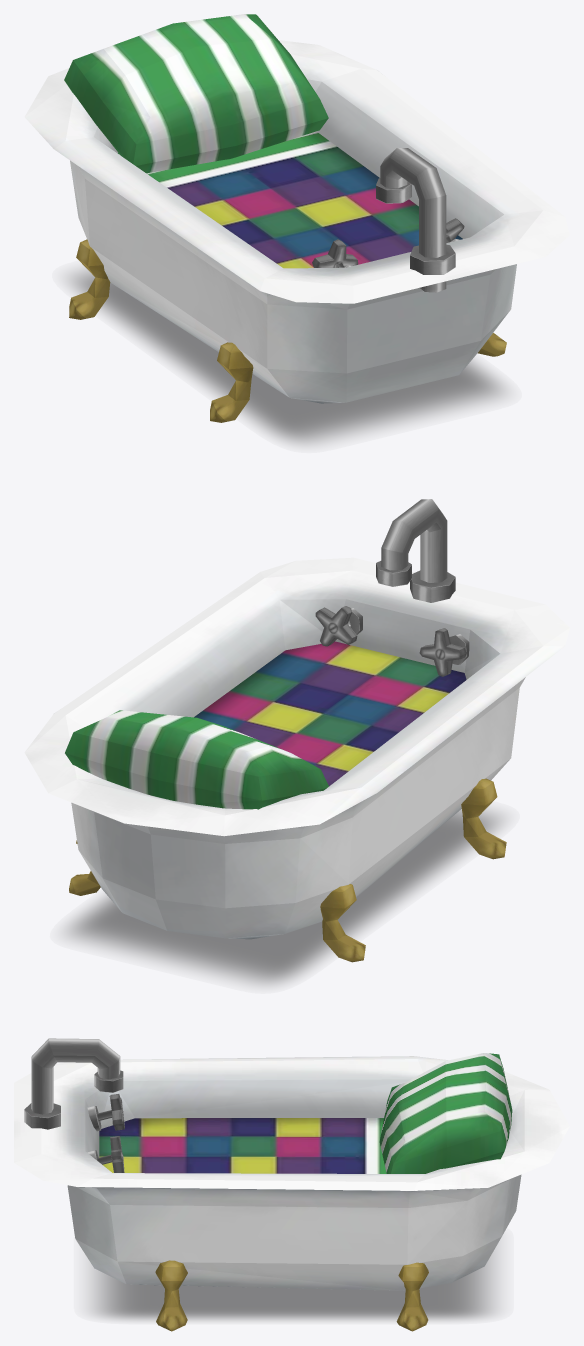
Rendered from bathtub_bed-transformed.glb.
3 renders of one model, top to bottom at view 1: azimuth 30°, elevation 25°; view 2: azimuth 150°, elevation 25°; view 3: azimuth 270°, elevation 25°, orthographic. The views are drawn at different scales.
Parts seen in each view (by area): view 1: polySurface1_surfaceShader6SGShader_0, pillow_surfaceShader5SGShader_0, polySurface2_surfaceShader11SGShader_0, pPlane1_lambert2SGShader_0, leg2_surfaceShader7SGShader_0, faucetCenterMiddle_surfaceShader10SGShader_0, faucetCilynder_surfaceShader8SGShader_0, faucetHandle_surfaceShader9SGShader_0; view 2: polySurface1_surfaceShader6SGShader_0, polySurface2_surfaceShader11SGShader_0, pillow_surfaceShader5SGShader_0, pPlane1_lambert2SGShader_0, leg2_surfaceShader7SGShader_0, faucetCenterMiddle_surfaceShader10SGShader_0, faucetHandle_surfaceShader9SGShader_0, faucetCilynder_surfaceShader8SGShader_0; view 3: polySurface1_surfaceShader6SGShader_0, polySurface2_surfaceShader11SGShader_0, pPlane1_lambert2SGShader_0, pillow_surfaceShader5SGShader_0, faucetCenterMiddle_surfaceShader10SGShader_0, leg2_surfaceShader7SGShader_0, faucetCilynder_surfaceShader8SGShader_0, faucetHandle_surfaceShader9SGShader_0.
Boxes of the visible parts, x1,y1,x2,y2 form: polySurface1_surfaceShader6SGShader_0: (24,40,569,403); pillow_surfaceShader5SGShader_0: (64,14,328,173); polySurface2_surfaceShader11SGShader_0: (118,131,462,268); pPlane1_lambert2SGShader_0: (70,269,503,443); leg2_surfaceShader7SGShader_0: (69,239,506,422); faucetCenterMiddle_surfaceShader10SGShader_0: (380,147,446,292); faucetCilynder_surfaceShader8SGShader_0: (335,178,459,274); faucetHandle_surfaceShader9SGShader_0: (312,218,464,267); polySurface1_surfaceShader6SGShader_0: (24,557,569,939); polySurface2_surfaceShader11SGShader_0: (194,641,466,786); pillow_surfaceShader5SGShader_0: (65,710,328,809); pPlane1_lambert2SGShader_0: (68,809,501,984); leg2_surfaceShader7SGShader_0: (69,778,506,962); faucetCenterMiddle_surfaceShader10SGShader_0: (381,499,447,582); faucetHandle_surfaceShader9SGShader_0: (315,606,466,676); faucetCilynder_surfaceShader8SGShader_0: (348,561,469,664); polySurface1_surfaceShader6SGShader_0: (14,1056,569,1290); polySurface2_surfaceShader11SGShader_0: (99,1118,386,1173); pPlane1_lambert2SGShader_0: (93,1250,494,1319); pillow_surfaceShader5SGShader_0: (379,1053,512,1173); faucetCenterMiddle_surfaceShader10SGShader_0: (31,1038,120,1114); leg2_surfaceShader7SGShader_0: (155,1260,428,1331); faucetCilynder_surfaceShader8SGShader_0: (24,1070,123,1164); faucetHandle_surfaceShader9SGShader_0: (109,1094,124,1172).
Size of the model in its own units: 0.04 by 0.0325 by 0.0697.
8 materials, 8 textured.
